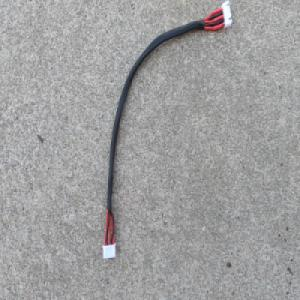Wire: (100, 0, 233, 263)
